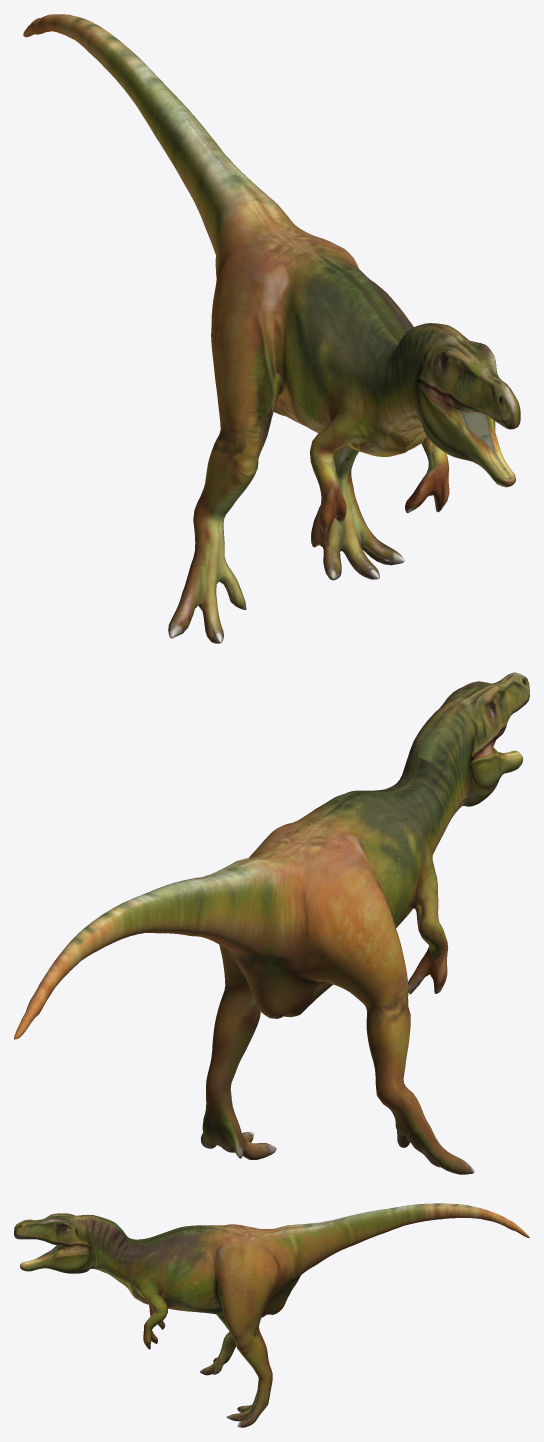
File: 11 Condorraptor 3D.glb
3 renders of one model, top to bottom at view 1: azimuth 30°, elevation 25°; view 2: azimuth 150°, elevation 25°; view 3: azimuth 270°, elevation 25°, orthographic. The views are drawn at different scales.
Visible parts, largest first — view 1: Mesh0; view 2: Mesh0; view 3: Mesh0.
Part boxes in pixels (<box>): Mesh0: <box>23,14,520,643</box>; Mesh0: <box>14,672,529,1174</box>; Mesh0: <box>14,1203,529,1427</box>.
Size of the model in its own units: 6.06 by 9.08 by 20.91.
1 material, 1 textured.
